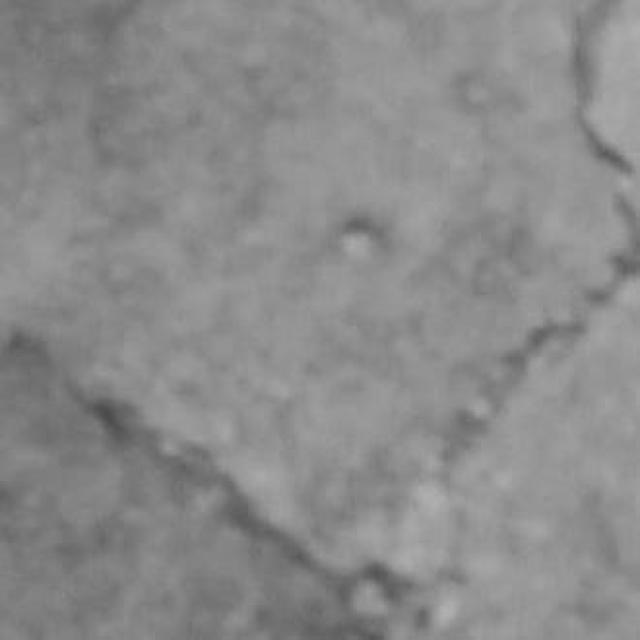crack: (443, 0, 639, 467), (72, 386, 416, 639), (571, 0, 634, 176)
